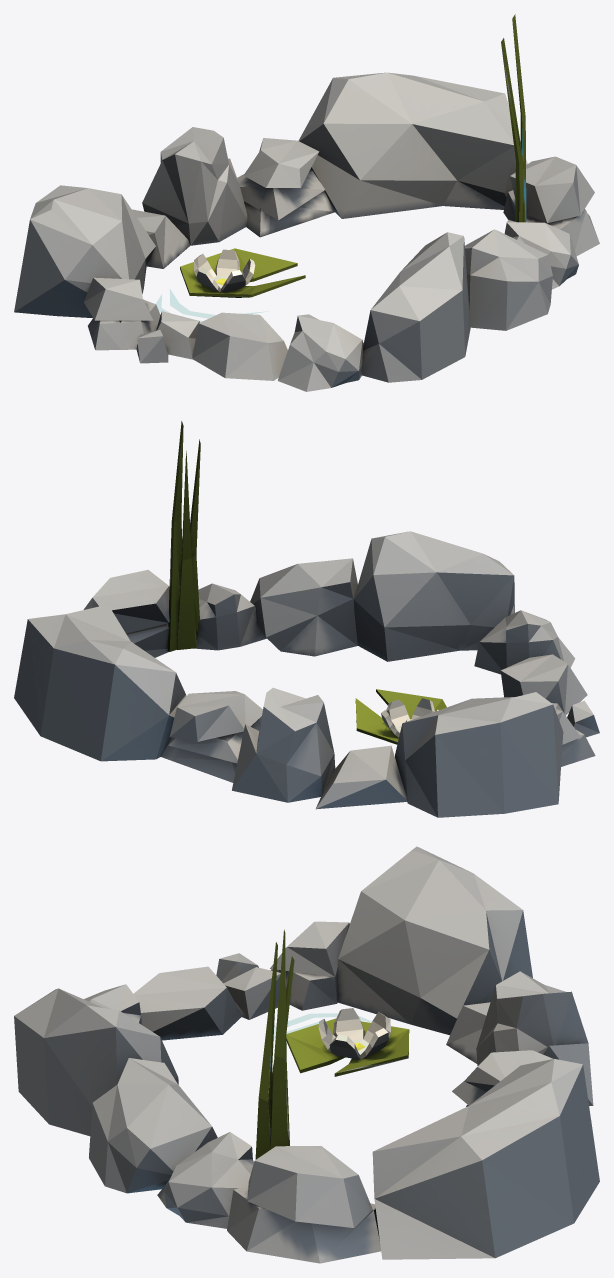
File: fountain_rockpool.glb
3 renders of one model, top to bottom at view 1: azimuth 30°, elevation 25°; view 2: azimuth 150°, elevation 25°; view 3: azimuth 270°, elevation 25°, orthographic. The views are drawn at different scales.
Visible parts, largest first — view 1: pond; view 2: pond; view 3: pond.
Boxes of the visible parts, x1=… form: pond: x1=14, y1=14, x2=599, y2=391; pond: x1=14, y1=421, x2=599, y2=817; pond: x1=14, y1=846, x2=599, y2=1263.
Bounding box in the file's own units: 2.19 × 0.929 × 1.75.
Materials: 1 (1 with a texture image).
